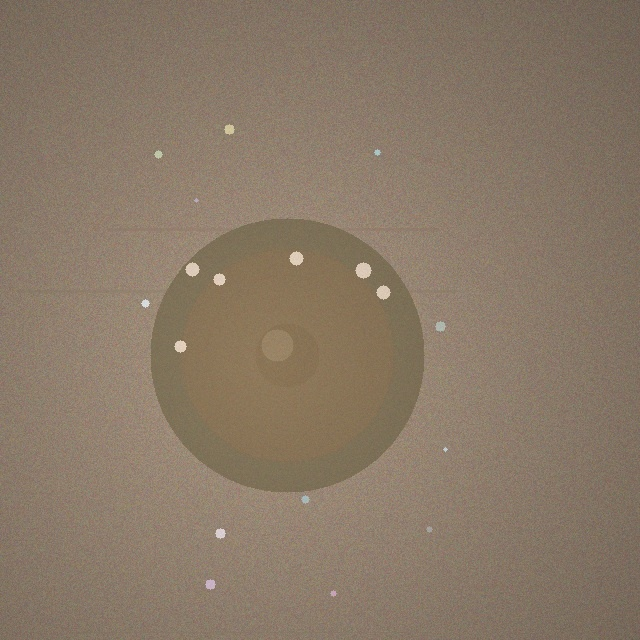overburn: (150, 218, 424, 492)
